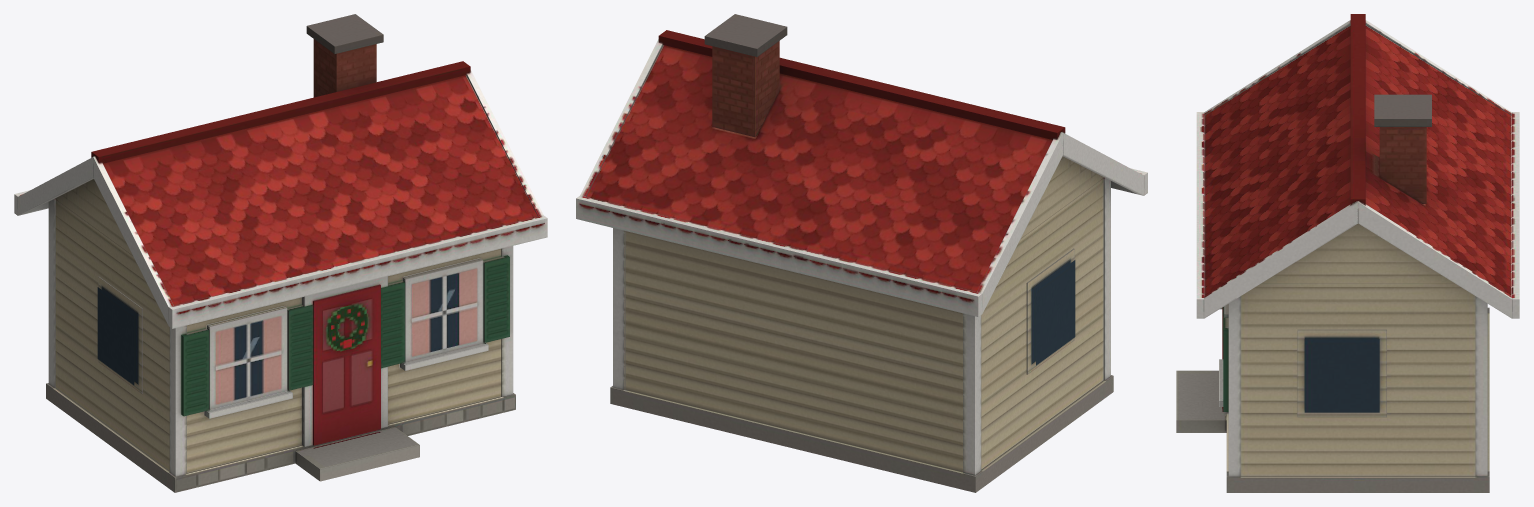
Rendered from cottage.glb.
The picture shows the model from 3 angles, left to right: view 1: azimuth 30°, elevation 25°; view 2: azimuth 150°, elevation 25°; view 3: azimuth 270°, elevation 25°; orthographic projection. The views are drawn at different scales.
Parts seen in each view (by area): view 1: cottage; view 2: cottage; view 3: cottage.
Boxes of the visible parts, left/top/right/bottom form: cottage: left=14, top=14, right=547, bottom=492; cottage: left=576, top=14, right=1147, bottom=492; cottage: left=1176, top=14, right=1519, bottom=492.
Bounding box in the file's own units: 4.14 × 3.55 × 3.21.
1 material, 1 textured.
